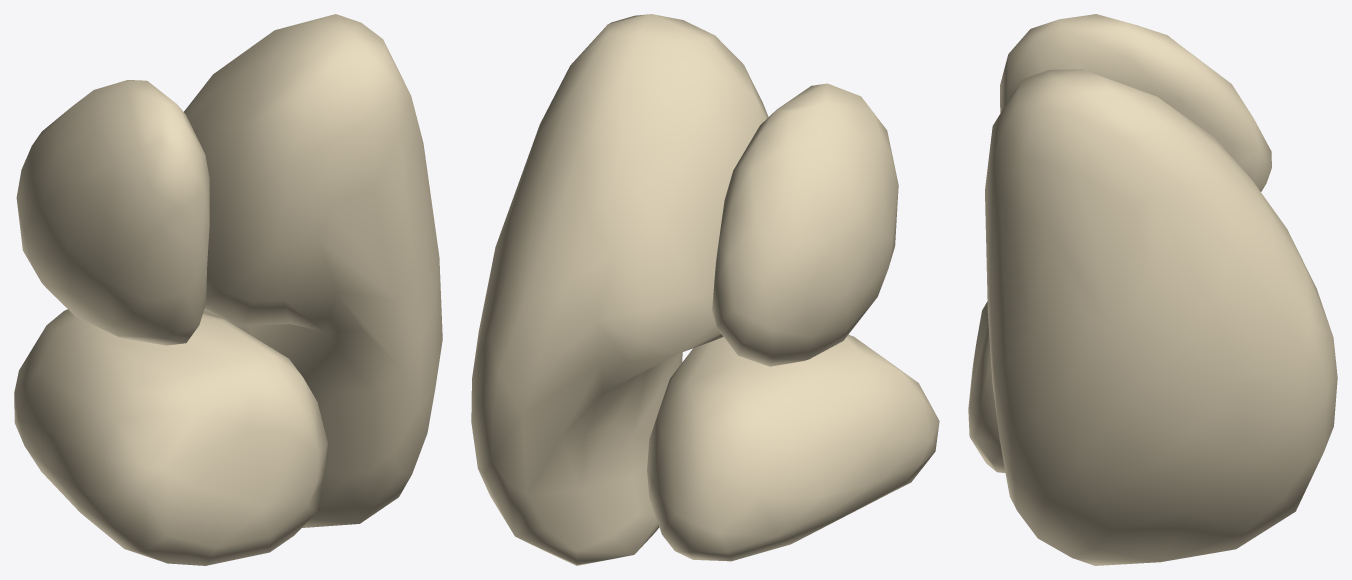
The model's file is esqueleto-posterior-cells-of-ethmoid-bone-r.glb.
3 renders of one model, left to right at view 1: azimuth 30°, elevation 25°; view 2: azimuth 150°, elevation 25°; view 3: azimuth 270°, elevation 25°, orthographic. The views are drawn at different scales.
Visible parts, largest first — view 1: Posterior cells of ethmoid bone.r; view 2: Posterior cells of ethmoid bone.r; view 3: Posterior cells of ethmoid bone.r.
Part boxes in pixels (left/top/right/bottom): Posterior cells of ethmoid bone.r: left=14, top=14, right=442, bottom=565; Posterior cells of ethmoid bone.r: left=471, top=14, right=939, bottom=565; Posterior cells of ethmoid bone.r: left=968, top=14, right=1337, bottom=565.
Bounding box in the file's own units: 0.00956 × 0.0123 × 0.00843.
